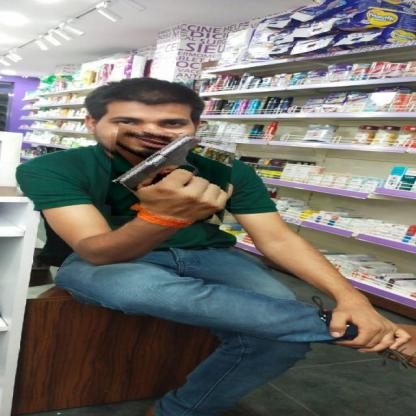handgun: (108, 127, 234, 221)
